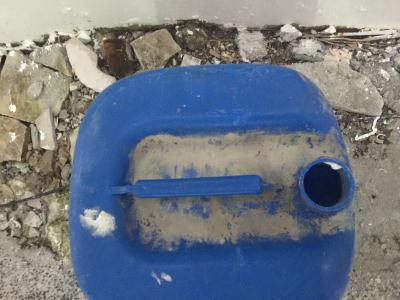bucket: (66, 60, 361, 300)
